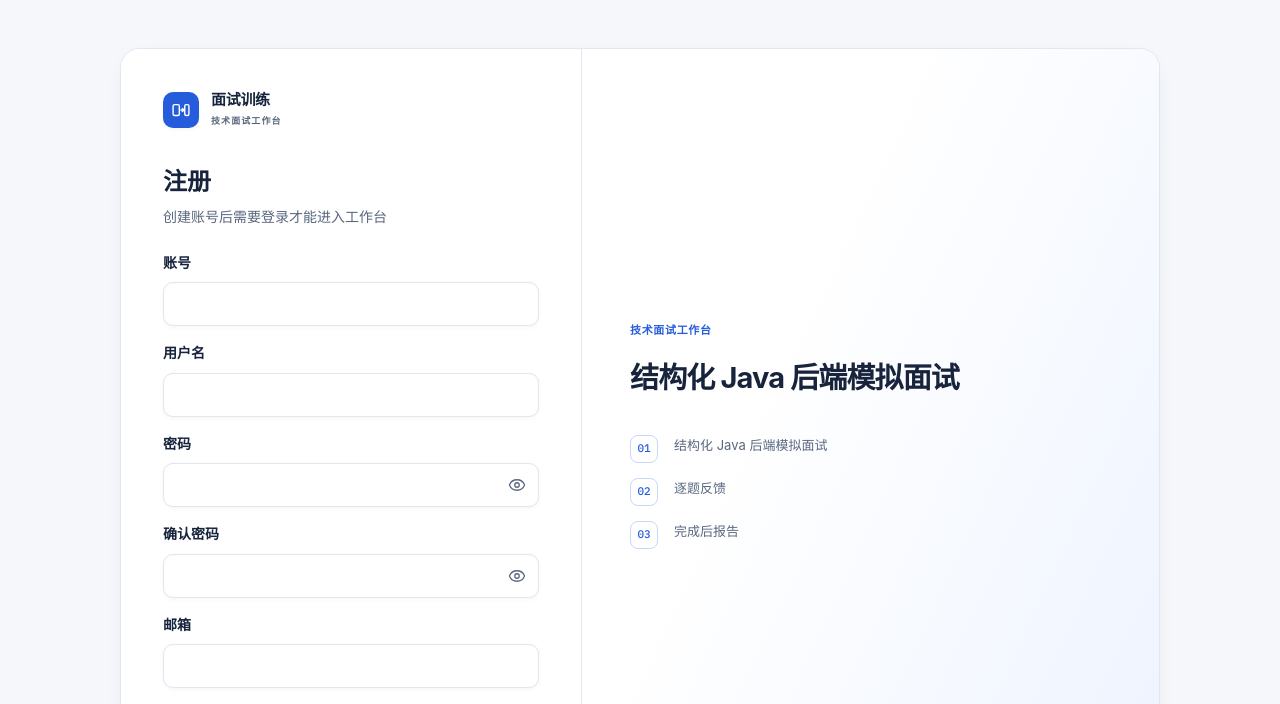
RegisterView › shows the unified duplicate public error without guessing the field
Type "alice" into the field with id "register-account". click: (351, 304)
box: [163,282,539,326]
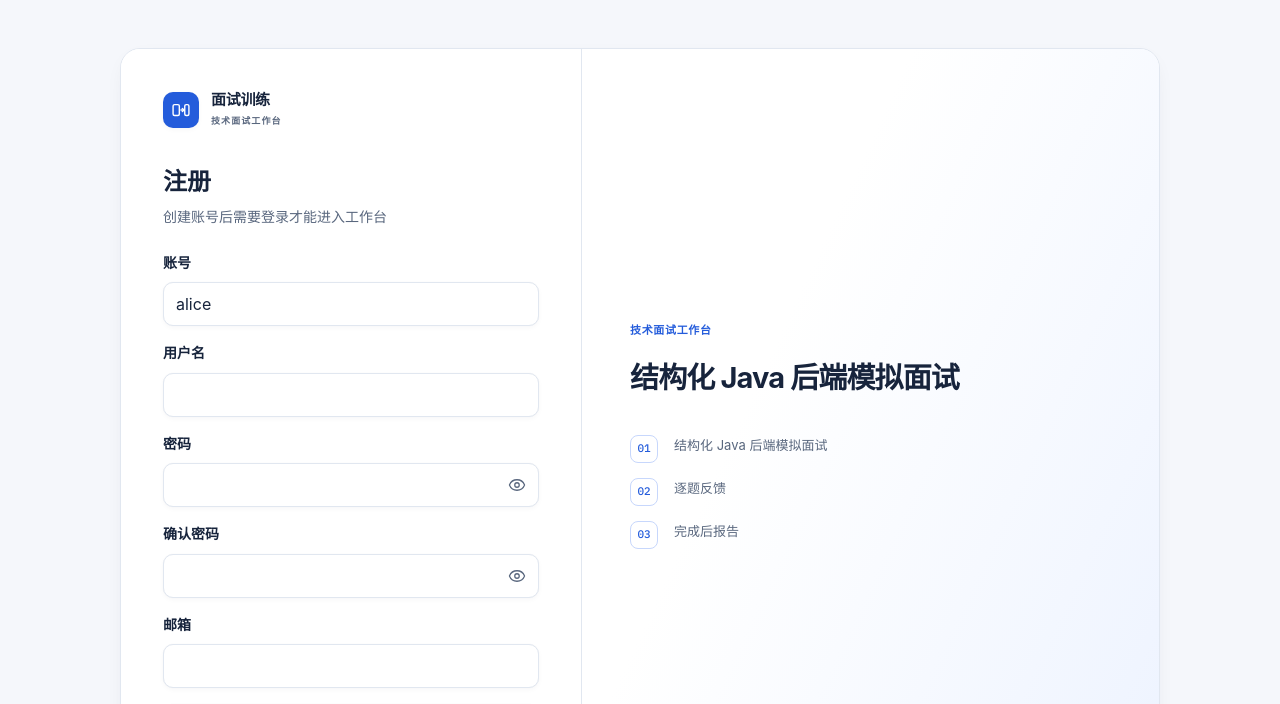
Type "爱丽丝" into the field with id "register-username". click: (351, 395)
box: [163,373,539,417]
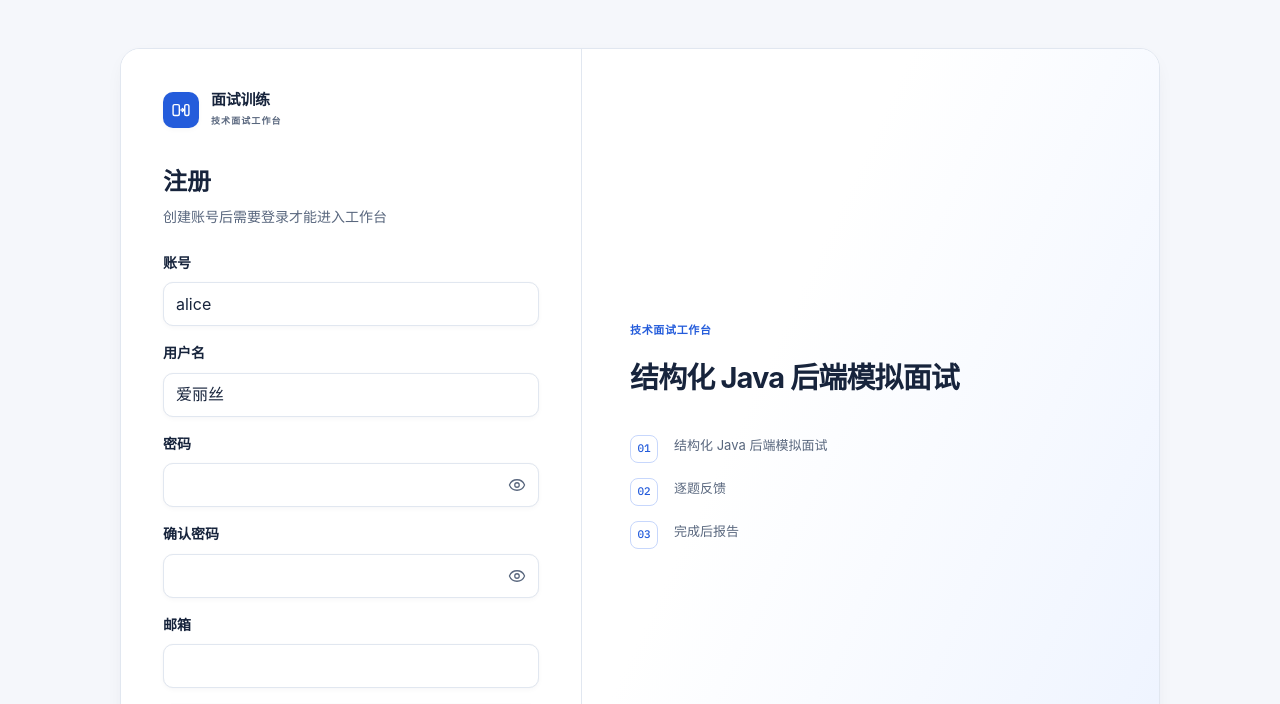
Type "password1" into the password field with id "register-password". click: (351, 485)
box: [163,463,539,507]
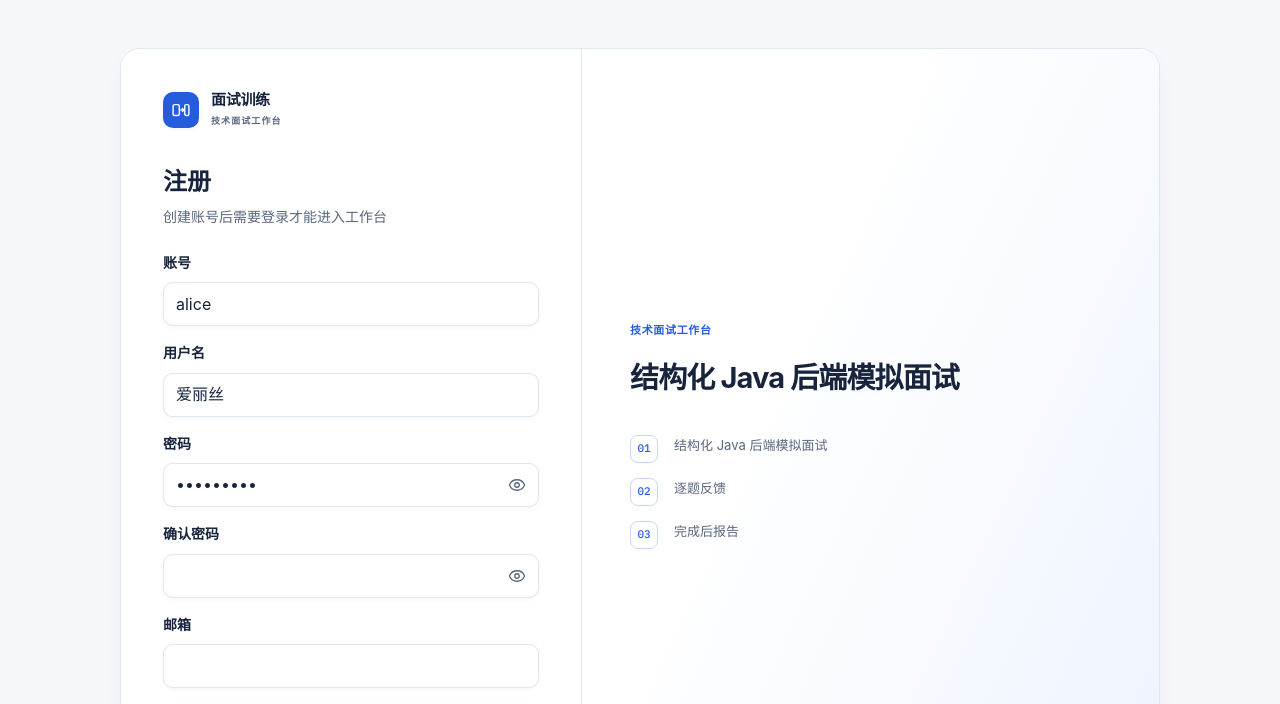
Type "password1" into the password field with id "register-confirm-password". click: (351, 576)
box: [163,554,539,598]
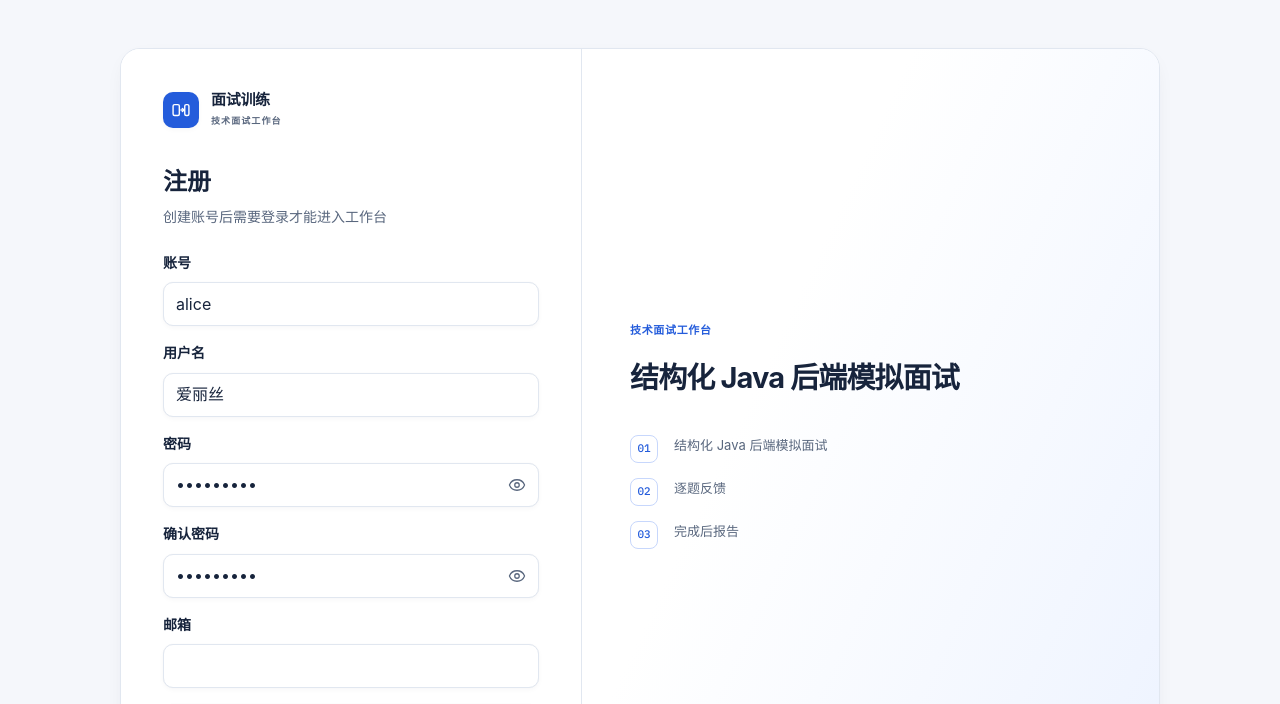
Type "alice@example.com" into the field with id "register-email". click: (351, 666)
box: [163,644,539,688]
(page scrolled)
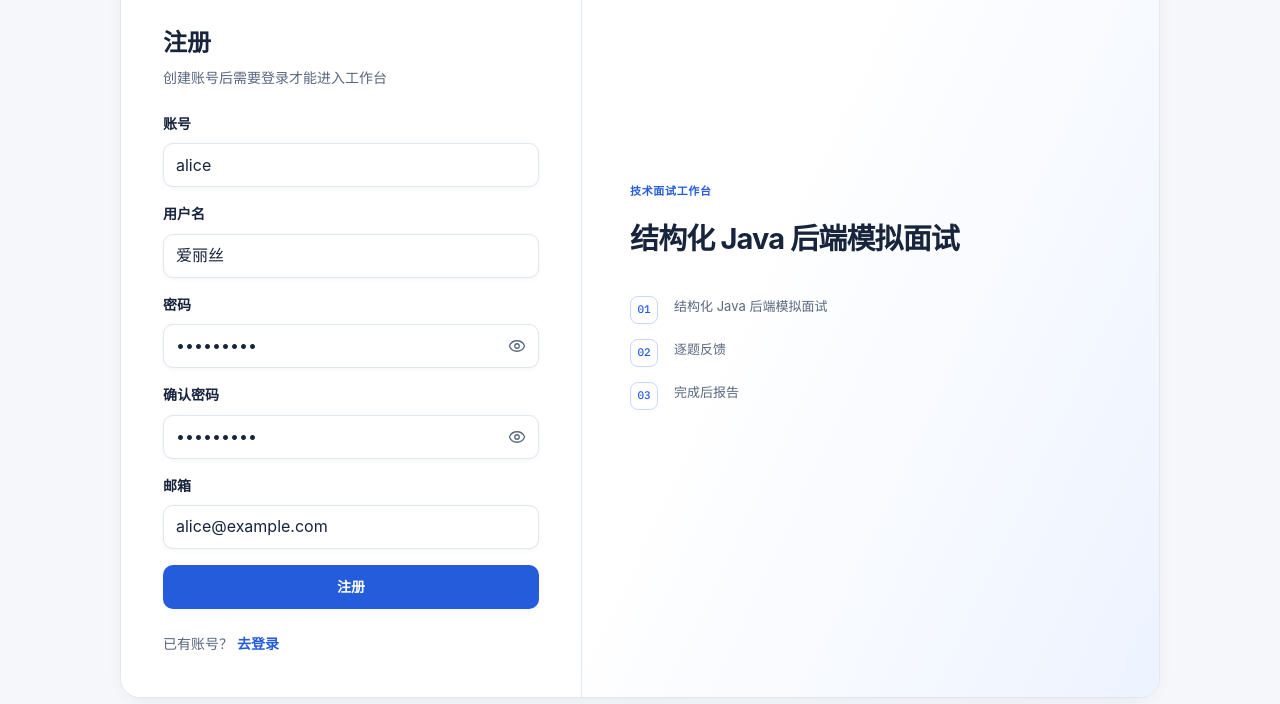
Submit the form, box [163,113,539,609]
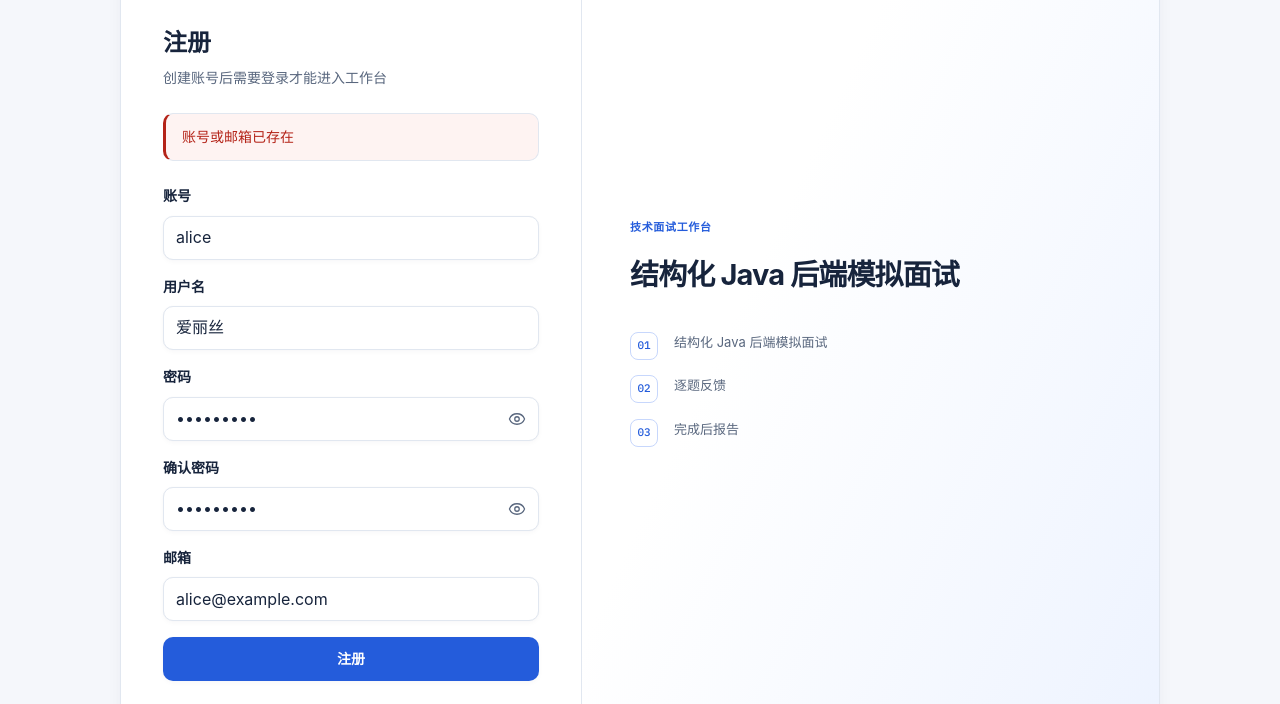
Check: the message "账号或邮箱已存在" is shown, box [163,113,539,161]
